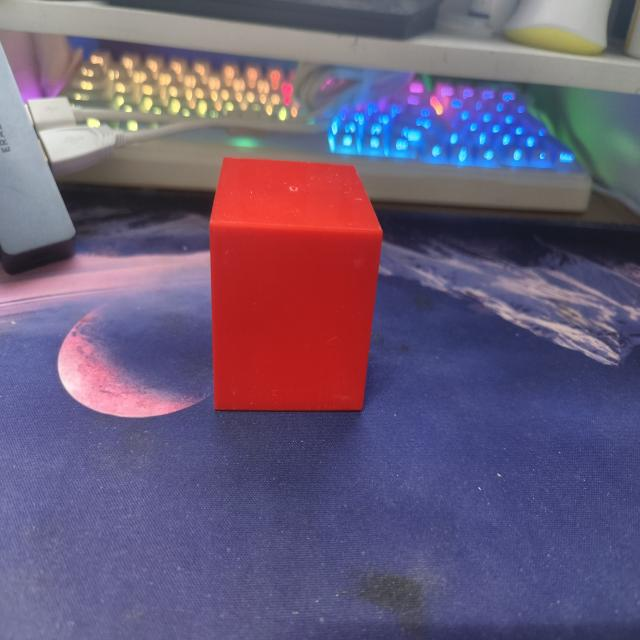red: (208, 158, 384, 415)
